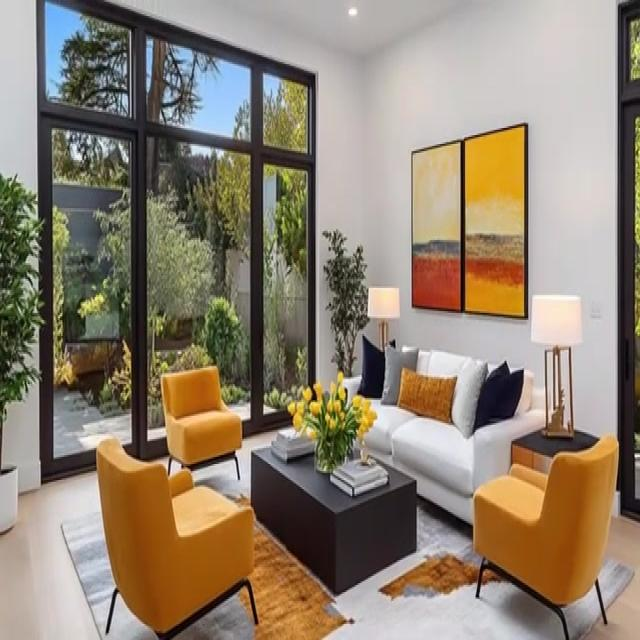obstacle: (340, 342, 549, 526), (95, 436, 259, 638), (472, 434, 619, 638), (250, 436, 417, 594), (160, 364, 242, 480)
